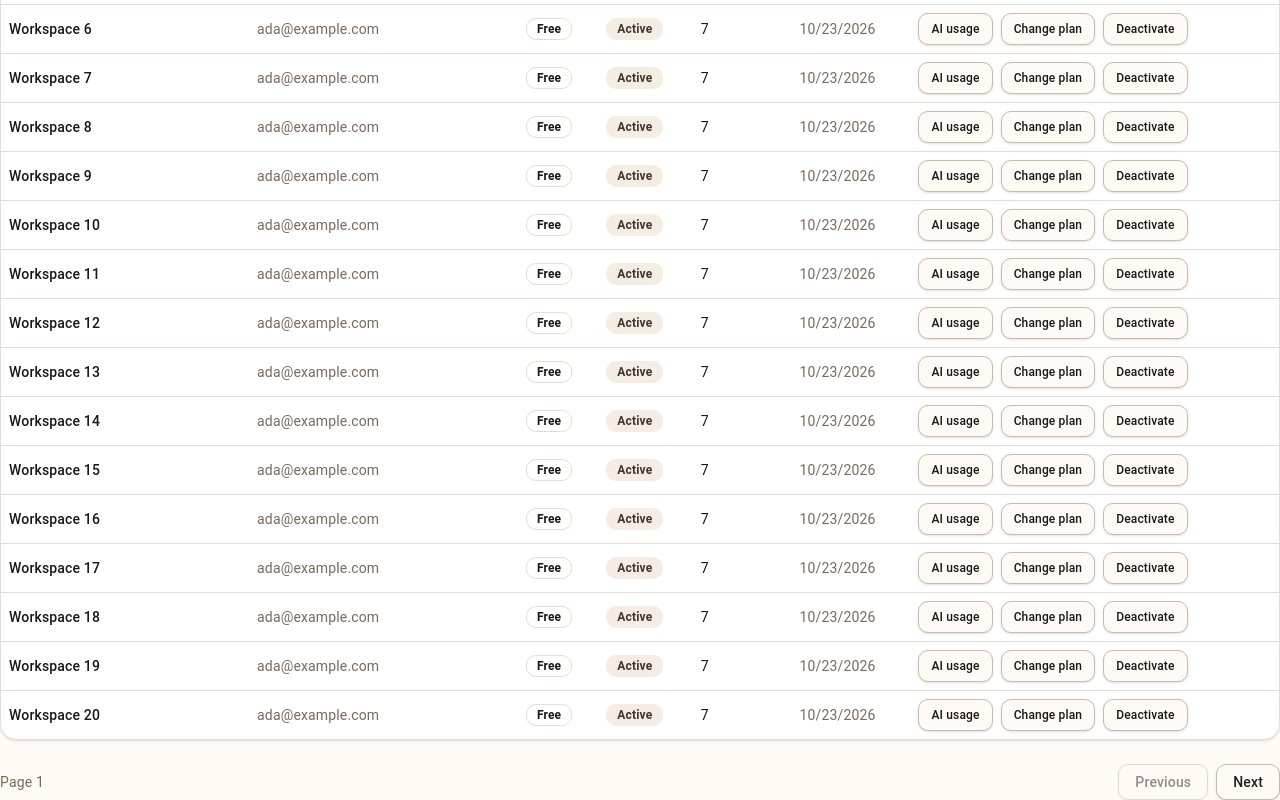
it: AdminWorkspaces › uses a 21-row lookahead, renders 20 and never fabricates a total
Later steps or results of the test are not shown.
(page scrolled)
Expected: the text "Workspace 20" is shown, [9, 706, 100, 722]
Expected: the text "Workspace 21" is not shown
Click the button "Next" at (1248, 782), box [1216, 764, 1279, 799]
(page scrolled)
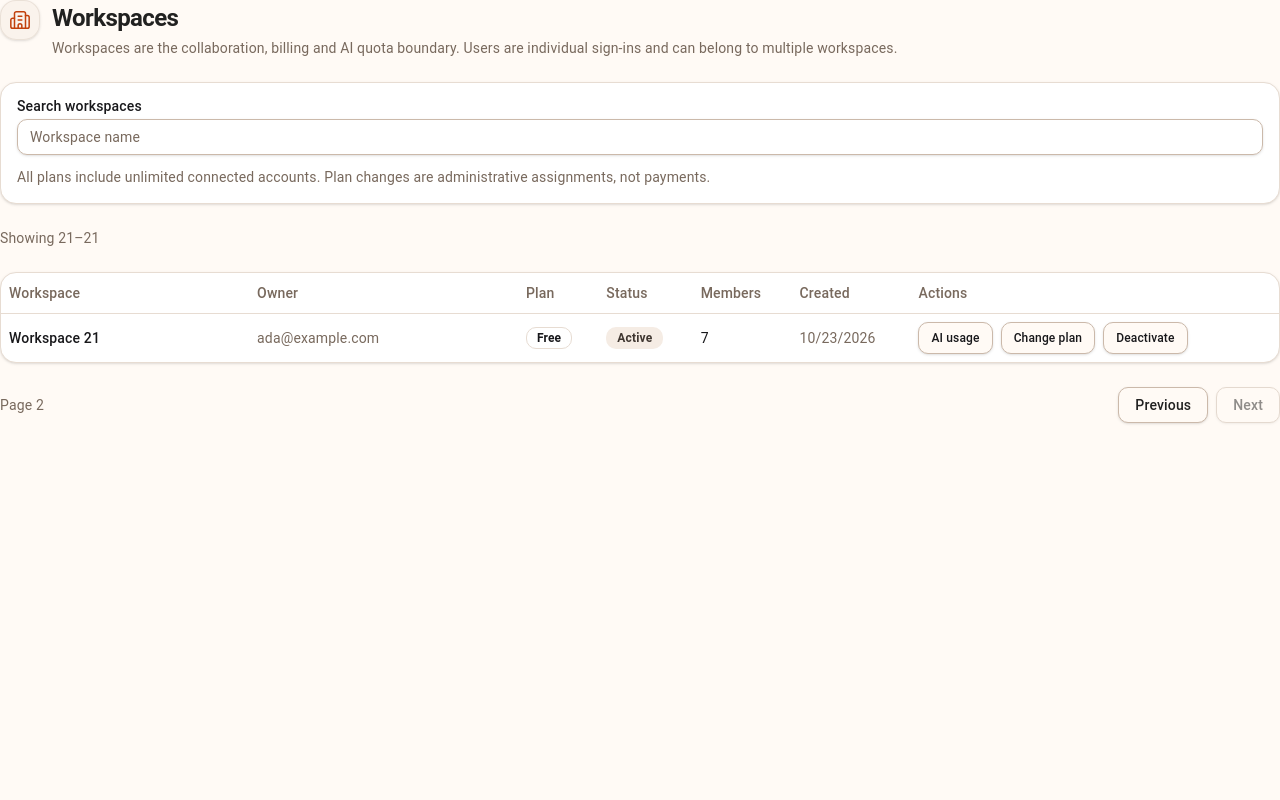
Result: the text "Workspace 21" is shown at [9, 330, 100, 346]
Result: the text "Showing 21–21" is shown at [0, 230, 100, 246]
Result: the button "Next" is disabled at [1216, 386, 1279, 422]
